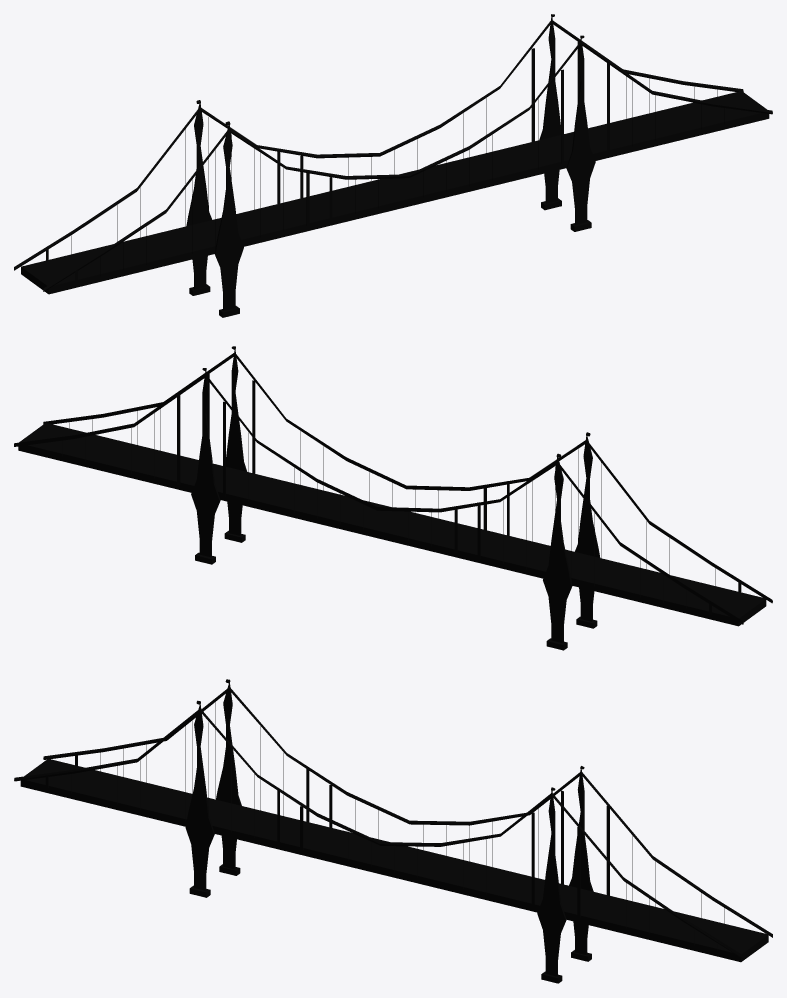
The model's file is Sbridge.glb.
3 views of the same model, one above another, from view 1: azimuth 30°, elevation 25°; view 2: azimuth 150°, elevation 25°; view 3: azimuth 330°, elevation 25° (orthographic).
Parts seen in each view (by area): view 1: Sbridge; view 2: Sbridge; view 3: Sbridge.
Boxes of the visible parts, x1,y1,x2,y2 form: Sbridge: (14, 14, 772, 317); Sbridge: (14, 346, 772, 650); Sbridge: (14, 679, 772, 983).
Size of the model in its own units: 5078 by 1283 by 405.
Materials: 1 (1 with a texture image).
